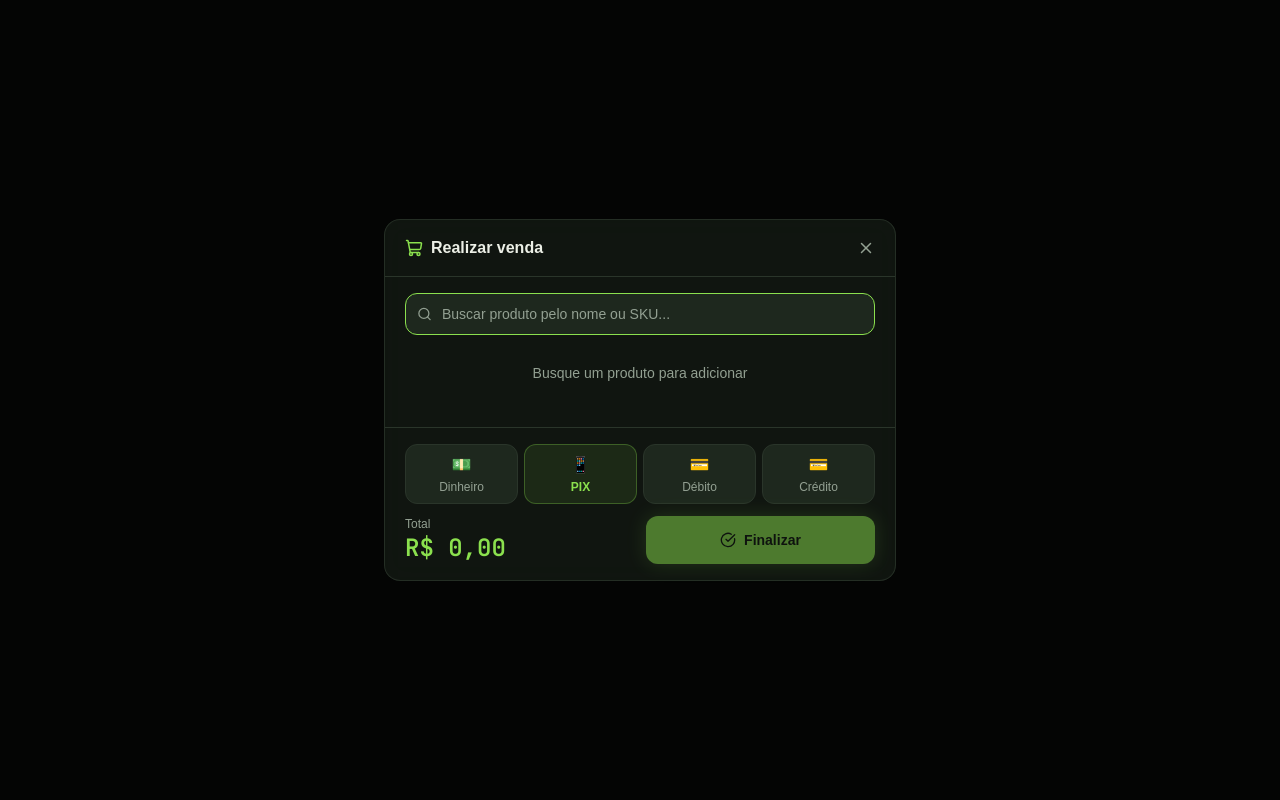
Test case: QuickSaleModal — product search › shows matching products when typing in the search box
Type "Narg" into the field with placeholder "Buscar produto pelo nome ou SKU..." at (640, 314), box left=405, top=293, right=875, bottom=335
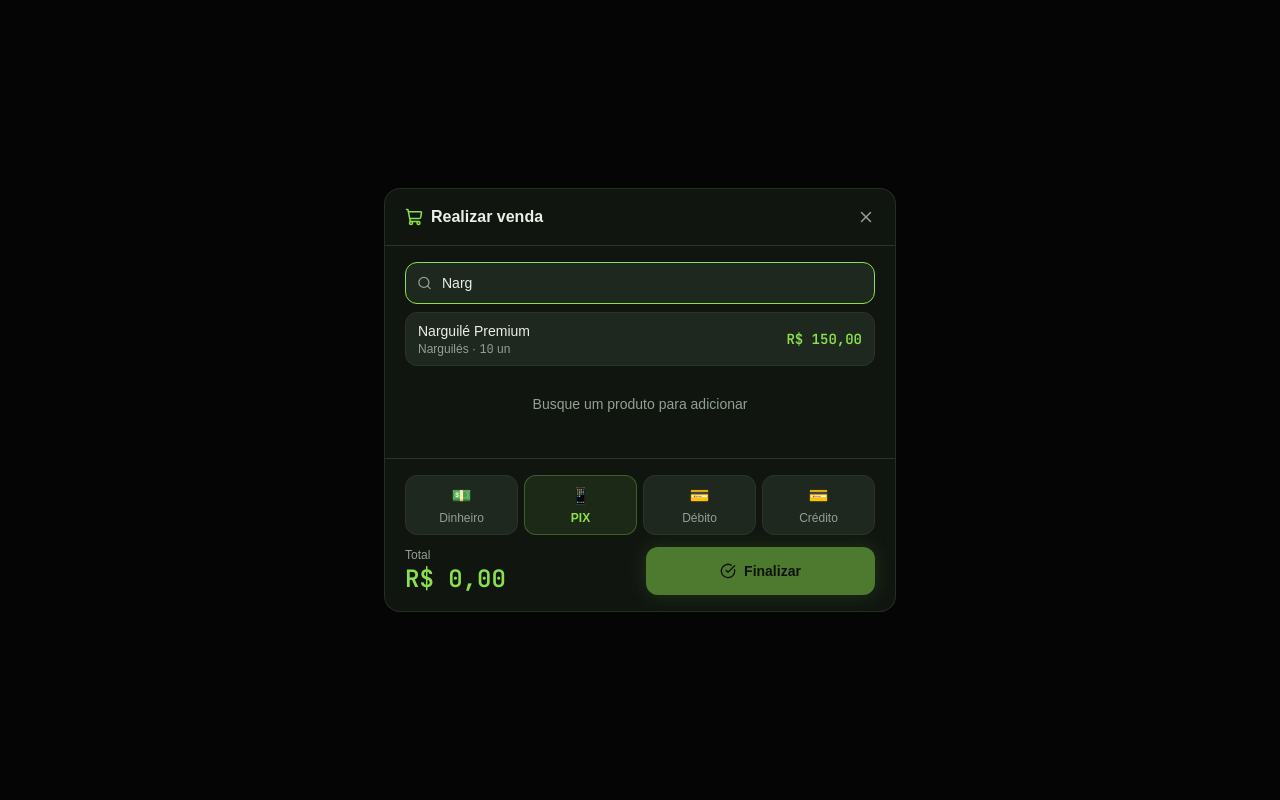
Result: the text "Narguilé Premium" is shown at left=418, top=321, right=530, bottom=341
